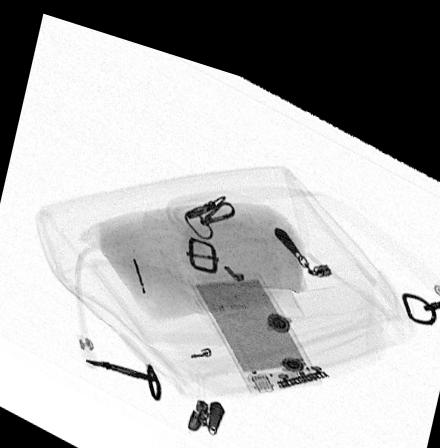Powerbank: (187, 256, 322, 379)
